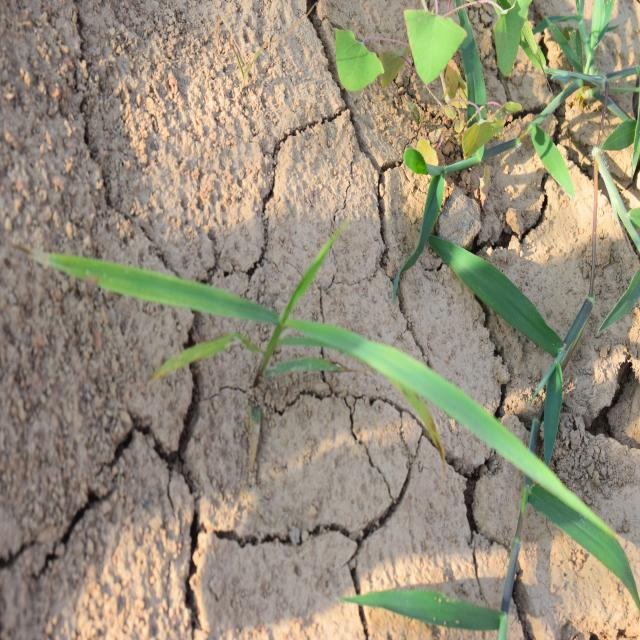green_foxtail: (116, 234, 560, 502)
